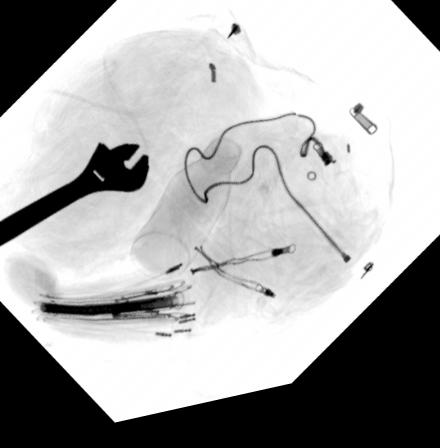Wrench: (0, 144, 151, 247)
